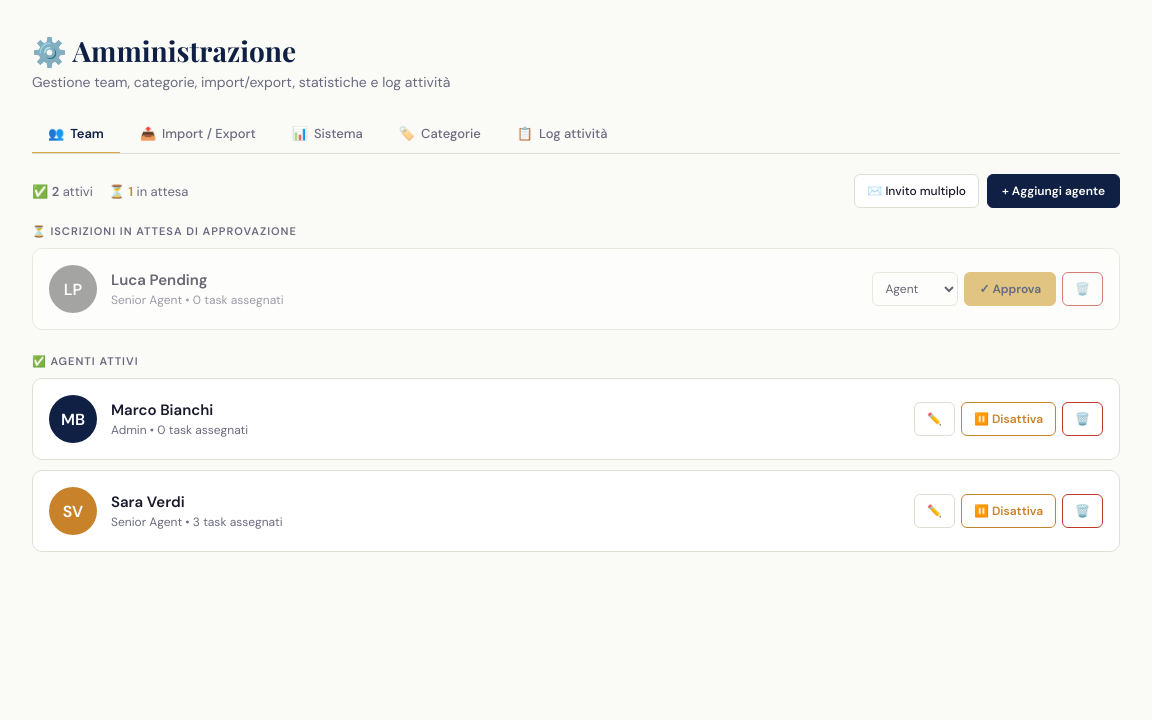
Test: AdminView — nessuna tab riceve `state` › Sistema conta i task dal contesto e riceve i template come prop
Click the button "📊 Sistema": coordinates (327, 134) top-left (276, 115), bottom-right (379, 154)
(page scrolled)
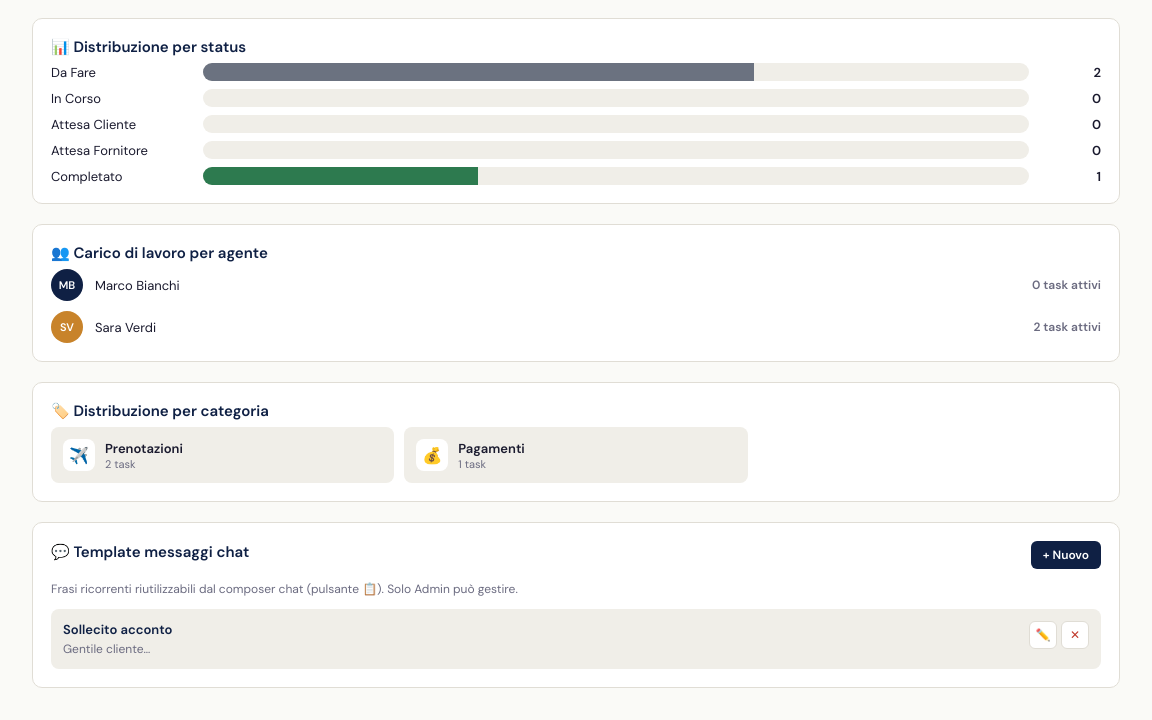
Result: the text "Sollecito acconto" is shown at top-left (63, 621), bottom-right (172, 638)
